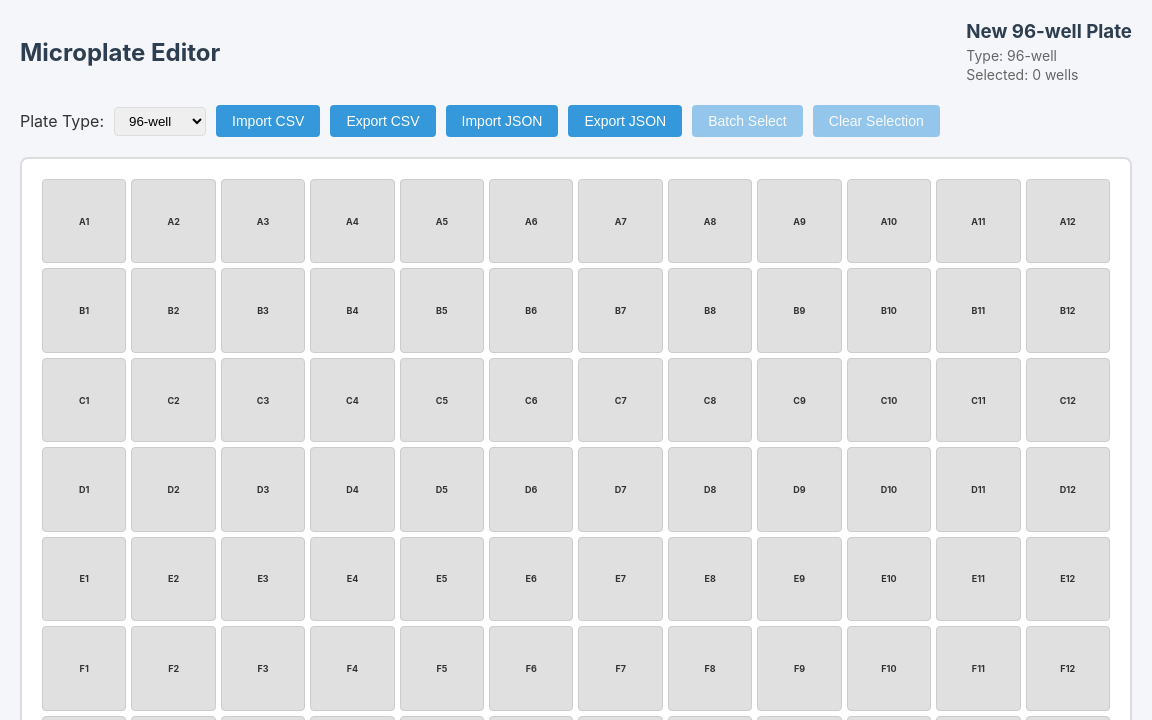
Test case: MicroplateEditor › batch select modal opens and selects coordinate range
First select a well so Batch Select button is enabled
Click the text "A1".
click(84, 221)  # box [42,179,126,263]
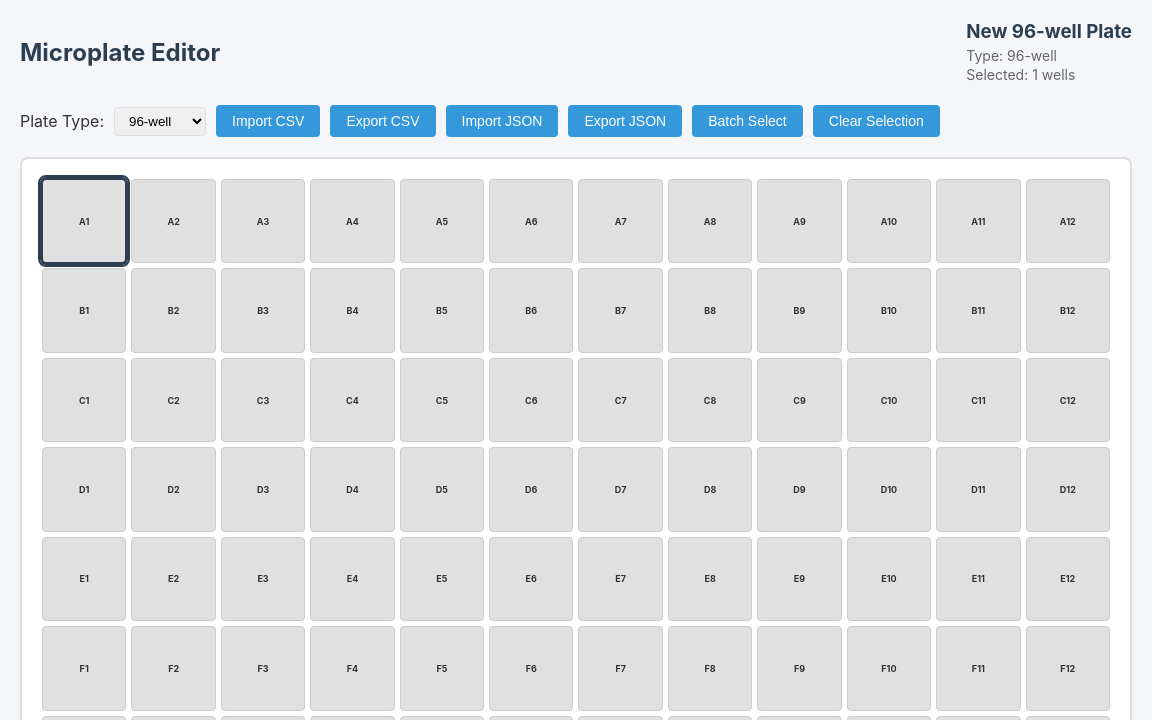
expect the text "Selected: 1 wells" is shown: met, box [966,66,1075,83]
Open batch modal
Click the button "Batch Select".
click(748, 121)  # box [692,105,803,137]
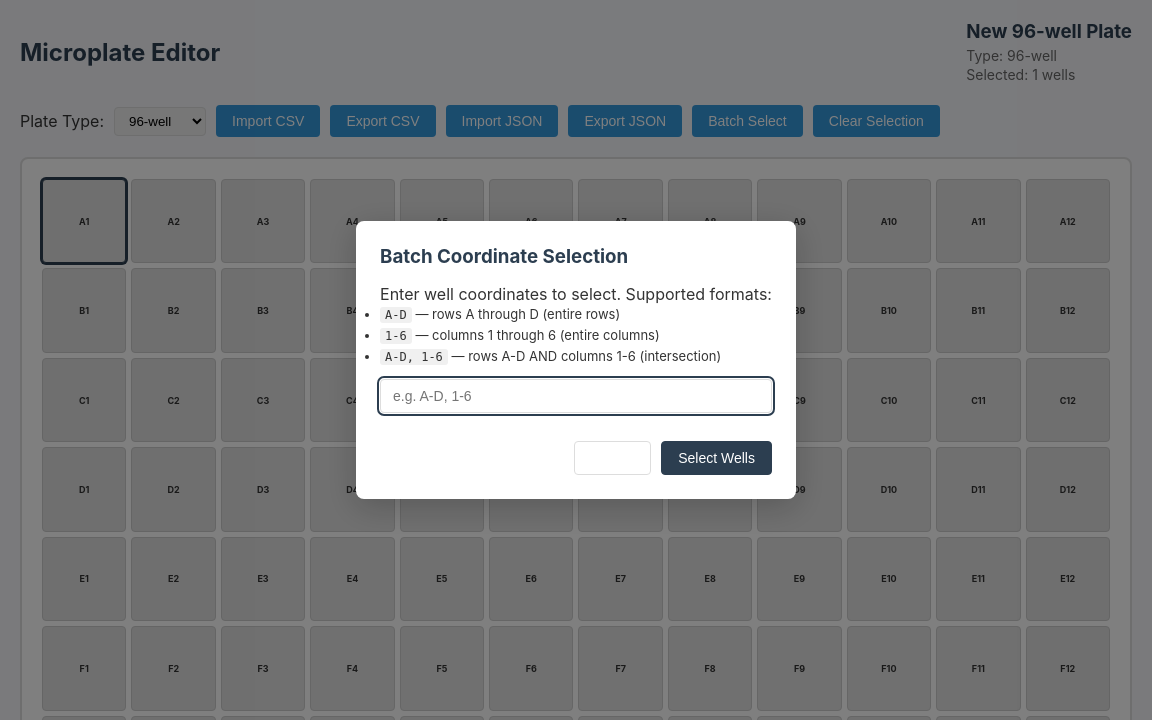
expect the heading "Batch Coordinate Selection" is shown: met, box [380,245,628,268]
Type "A-D, 1-6" into the field with placeholder "e.g. A-D, 1-6".
click(576, 396); type("A-D, 1-6")  # box [380,379,772,413]
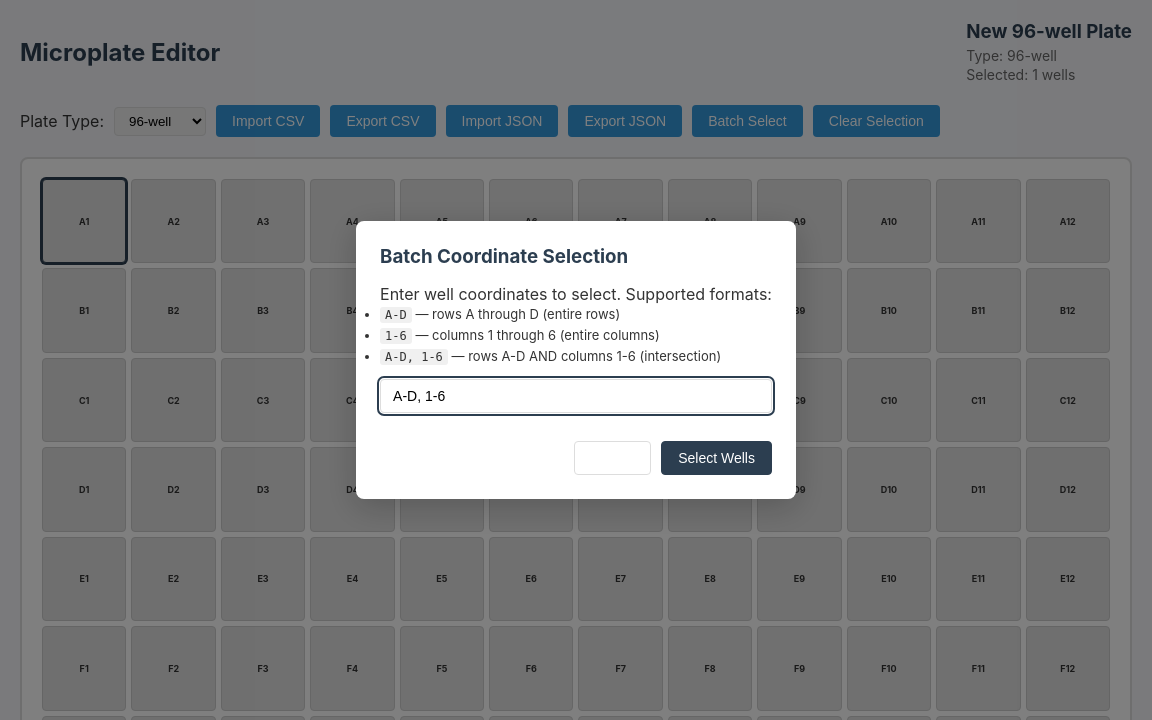
Click the button "Select Wells".
click(717, 458)  # box [661,441,772,475]
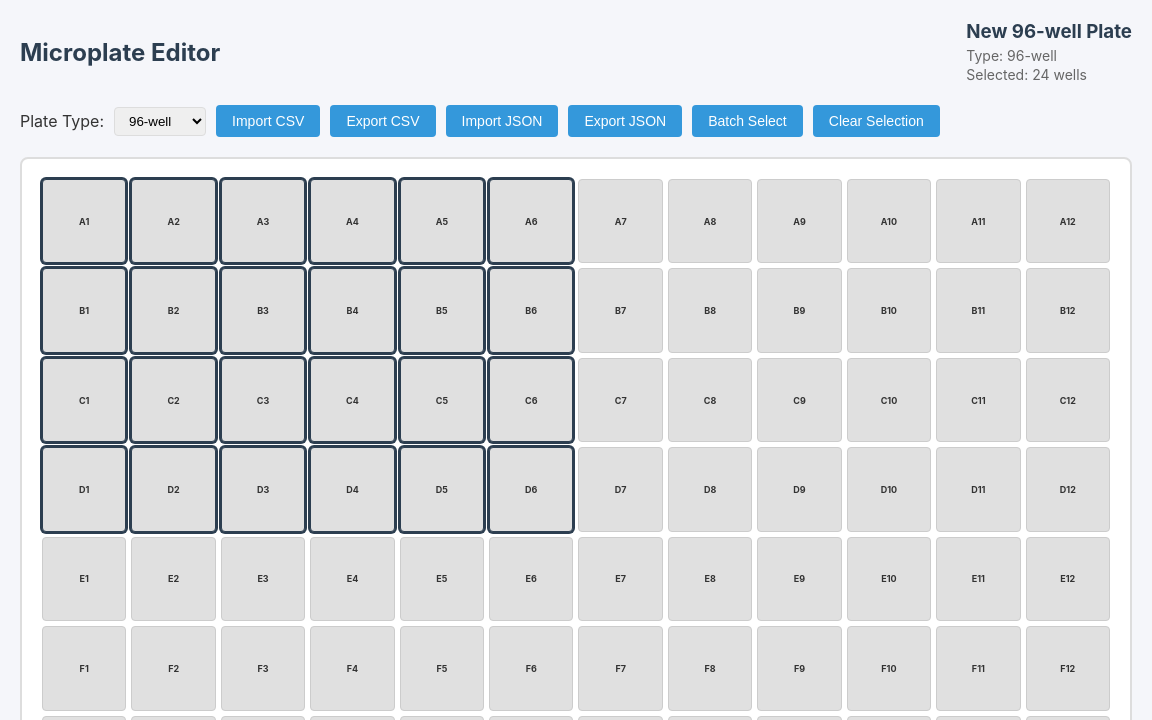
expect the text "Selected: 24 wells" is shown: met, box [966,66,1087,83]
